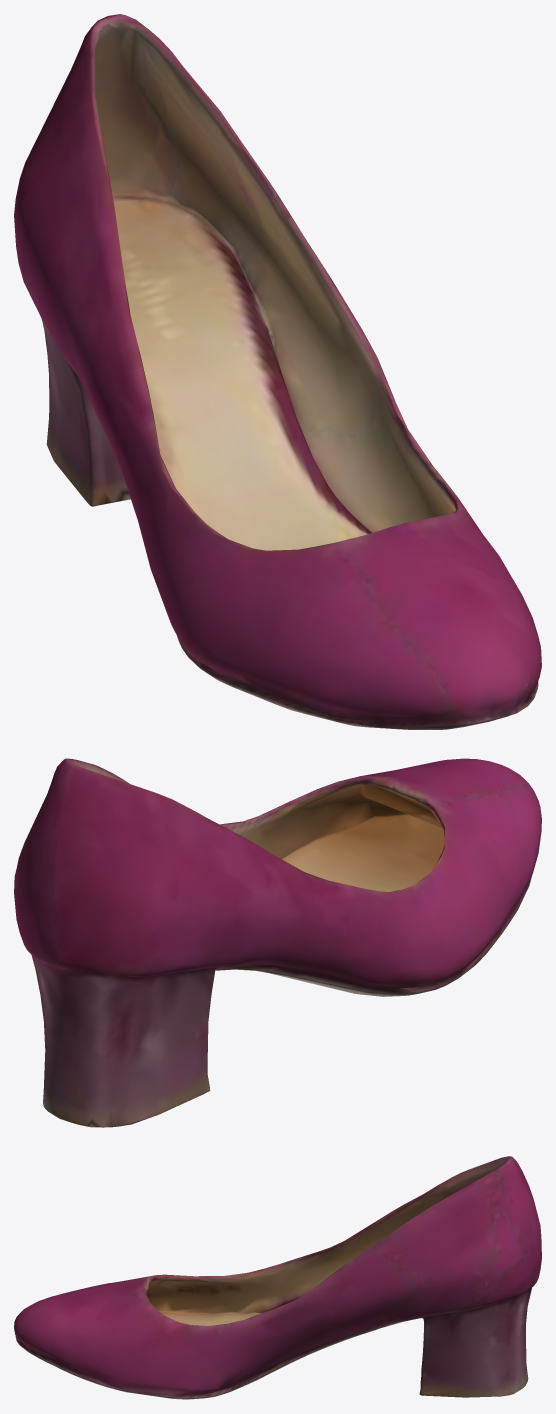
The model's file is Chelsea_lo_fl_rdheel_zAQrnhlEfw8-high.glb.
3 renders of one model, top to bottom at view 1: azimuth 30°, elevation 25°; view 2: azimuth 150°, elevation 25°; view 3: azimuth 270°, elevation 25°, orthographic. The views are drawn at different scales.
Visible parts, largest first — view 1: Chelsea_lo_fl_rdheel_zAQrnhlEfw8; view 2: Chelsea_lo_fl_rdheel_zAQrnhlEfw8; view 3: Chelsea_lo_fl_rdheel_zAQrnhlEfw8.
Boxes of the visible parts, x1,y1,x2,y2 form: Chelsea_lo_fl_rdheel_zAQrnhlEfw8: (14,14,541,729); Chelsea_lo_fl_rdheel_zAQrnhlEfw8: (14,758,541,1127); Chelsea_lo_fl_rdheel_zAQrnhlEfw8: (14,1156,541,1399).
Bounding box in the file's own units: 0.0864 × 0.1232 × 0.2563.
Materials: 1 (1 with a texture image).
